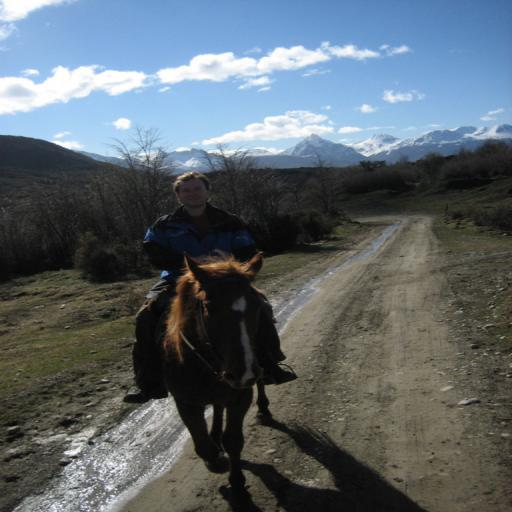Horse: (140, 246, 268, 494)
